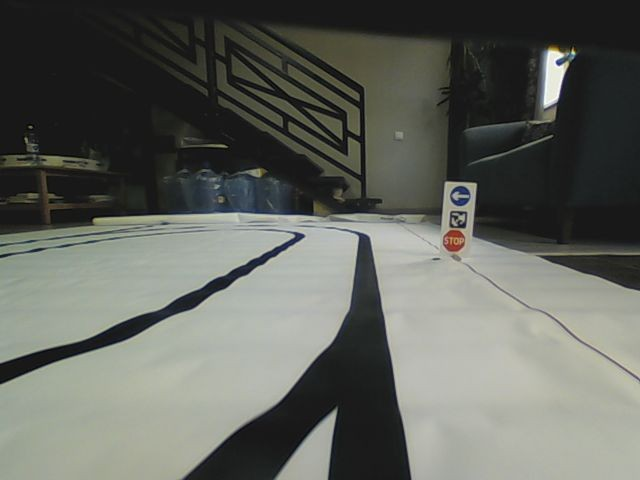Stop: (442, 229, 465, 253)
